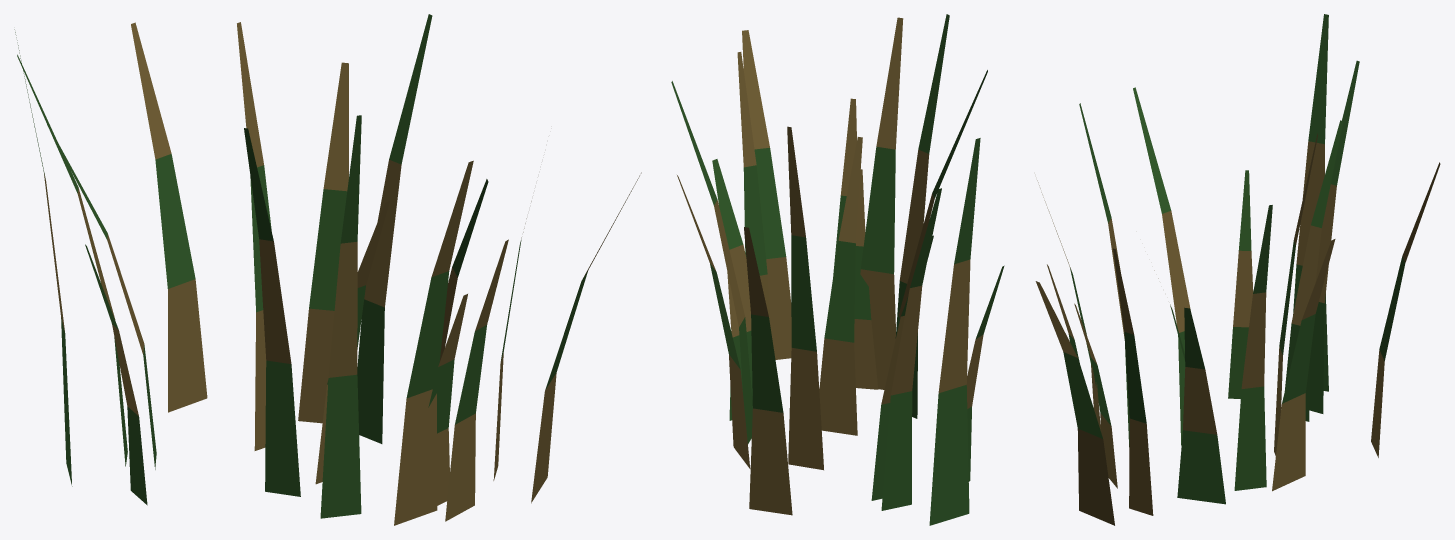
The model's file is grass_dry.glb.
The picture shows the model from 3 angles, left to right: view 1: azimuth 30°, elevation 25°; view 2: azimuth 150°, elevation 25°; view 3: azimuth 270°, elevation 25°; orthographic projection. The views are drawn at different scales.
Visible parts, largest first — view 1: Grass_Clump_Dry; view 2: Grass_Clump_Dry; view 3: Grass_Clump_Dry.
Part boxes in pixels (x1=…): Grass_Clump_Dry: x1=14, y1=14, x2=641, y2=525; Grass_Clump_Dry: x1=671, y1=14, x2=1004, y2=525; Grass_Clump_Dry: x1=1035, y1=14, x2=1440, y2=525.
Size of the model in its own units: 1.04 by 0.9953 by 1.03.
